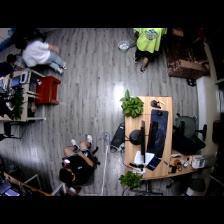normal: (57, 137, 97, 186), (17, 36, 68, 74), (134, 28, 164, 71), (5, 54, 27, 70)
